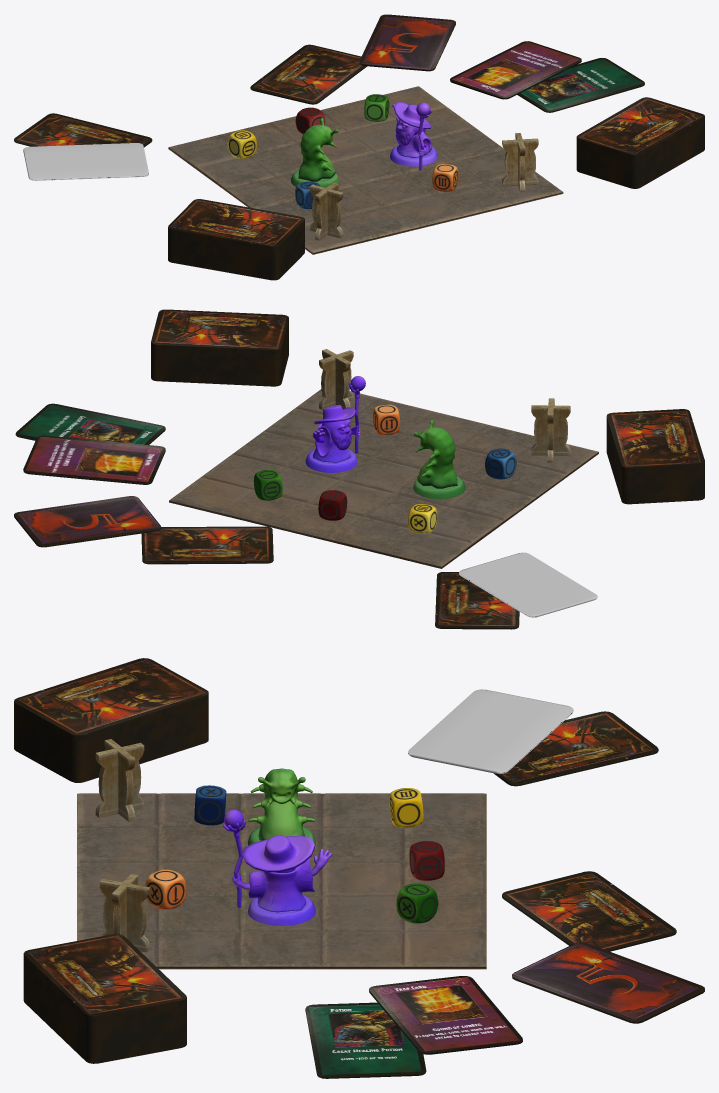
Rendered from SceneOverview.fbx.
3 renders of one model, top to bottom at view 1: azimuth 30°, elevation 25°; view 2: azimuth 150°, elevation 25°; view 3: azimuth 270°, elevation 25°, orthographic. The views are drawn at different scales.
Visible parts, largest first — view 1: Plane.008, Plane.007, Plane.006, Plane.003, Plane.002, Plane.001, Plane.004, Plane, Plane.005, Circle.001, Circle.006, Cube.006 (+6 smaller); view 2: Plane.008, Plane.006, Plane.007, Plane.001, Plane.002, Plane.003, Plane.004, Plane, Plane.005, Circle.001, Circle.006, Cube.007 (+6 smaller); view 3: Plane.008, Plane.007, Plane.006, Plane.002, Plane.003, Plane.004, Plane.001, Plane, Circle.001, Plane.005, Circle.006, Cube.007 (+6 smaller).
Boxes of the visible parts, box(x1,y1,x2,y2) form: Plane.008: box(168, 86, 563, 254); Plane.007: box(168, 199, 304, 280); Plane.006: box(576, 97, 704, 188); Plane.003: box(23, 143, 148, 180); Plane.002: box(359, 14, 455, 71); Plane.001: box(450, 41, 581, 99); Plane.004: box(250, 44, 366, 104); Plane: box(517, 58, 644, 112); Plane.005: box(14, 113, 152, 147); Circle.001: box(390, 101, 437, 170); Circle.006: box(291, 118, 338, 187); Cube.006: box(502, 133, 538, 192); Plane.008: box(169, 389, 598, 568); Plane.006: box(151, 309, 288, 386); Plane.007: box(606, 409, 704, 504); Plane.001: box(23, 435, 165, 484); Plane.002: box(14, 496, 161, 547); Plane.003: box(459, 552, 597, 617); Plane.004: box(141, 526, 273, 564); Plane: box(15, 403, 165, 444); Plane.005: box(435, 572, 519, 629); Circle.001: box(305, 376, 365, 472); Circle.006: box(413, 420, 465, 499); Cube.007: box(531, 398, 570, 462); Plane.008: box(77, 793, 486, 969); Plane.007: box(14, 658, 208, 782); Plane.006: box(23, 934, 186, 1063); Plane.002: box(512, 942, 704, 1023); Plane.003: box(408, 689, 573, 773); Plane.004: box(502, 871, 676, 951); Plane.001: box(369, 976, 522, 1054); Plane: box(305, 1002, 426, 1078); Circle.001: box(223, 809, 331, 925); Plane.005: box(494, 711, 658, 786); Circle.006: box(247, 768, 315, 845); Cube.007: box(95, 739, 144, 821).
Size of the model in its own units: 2444 by 296 by 1842.
